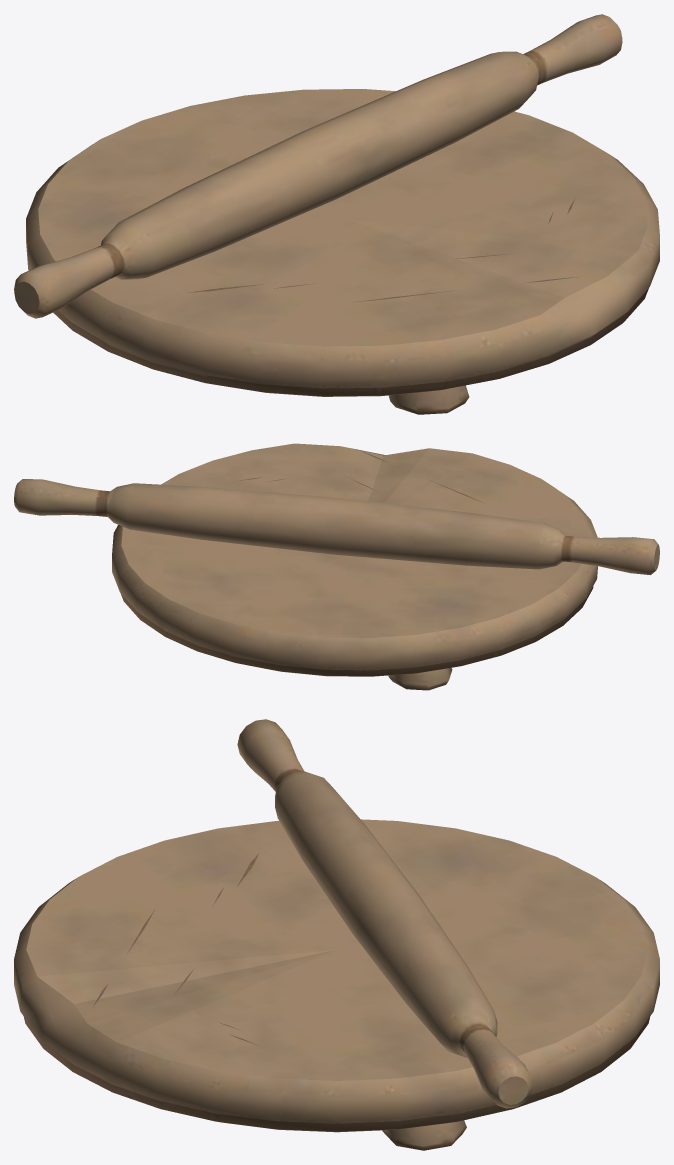
File: K13_chakla_belan.glb
3 views of the same model, one above another, from view 1: azimuth 30°, elevation 25°; view 2: azimuth 150°, elevation 25°; view 3: azimuth 270°, elevation 25° (orthographic). The views are drawn at different scales.
Visible parts, largest first — view 1: Chakla belan; view 2: Chakla belan; view 3: Chakla belan.
Boxes of the visible parts, <box> form: Chakla belan: <box>14,14,659,414</box>; Chakla belan: <box>14,443,659,690</box>; Chakla belan: <box>14,719,659,1150</box>.
Size of the model in its own units: 0.5 by 0.1067 by 0.3834.
2 materials, 2 textured.
